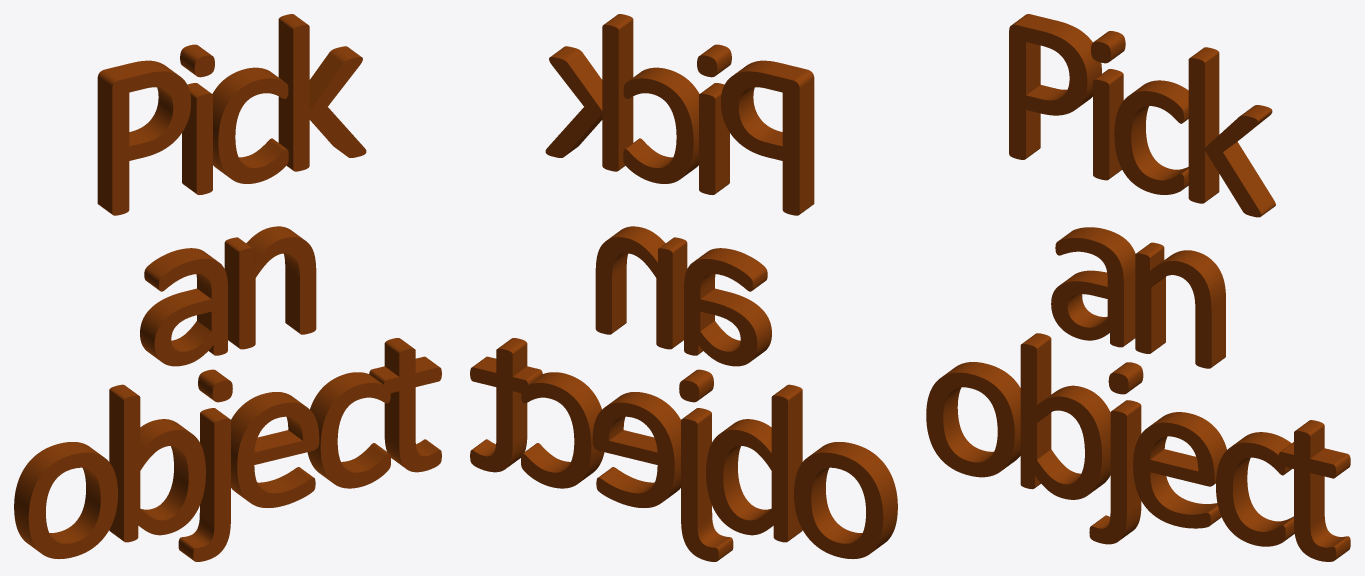
The model's file is pick.glb.
3 renders of one model, left to right at view 1: azimuth 30°, elevation 25°; view 2: azimuth 150°, elevation 25°; view 3: azimuth 330°, elevation 25°, orthographic.
Parts seen in each view (by area): view 1: defaultobject; view 2: defaultobject; view 3: defaultobject.
Boxes of the visible parts, <box> form: defaultobject: <box>14,14,441,561</box>; defaultobject: <box>470,14,897,561</box>; defaultobject: <box>926,14,1350,561</box>.
Size of the model in its own units: 163 by 193 by 10.
